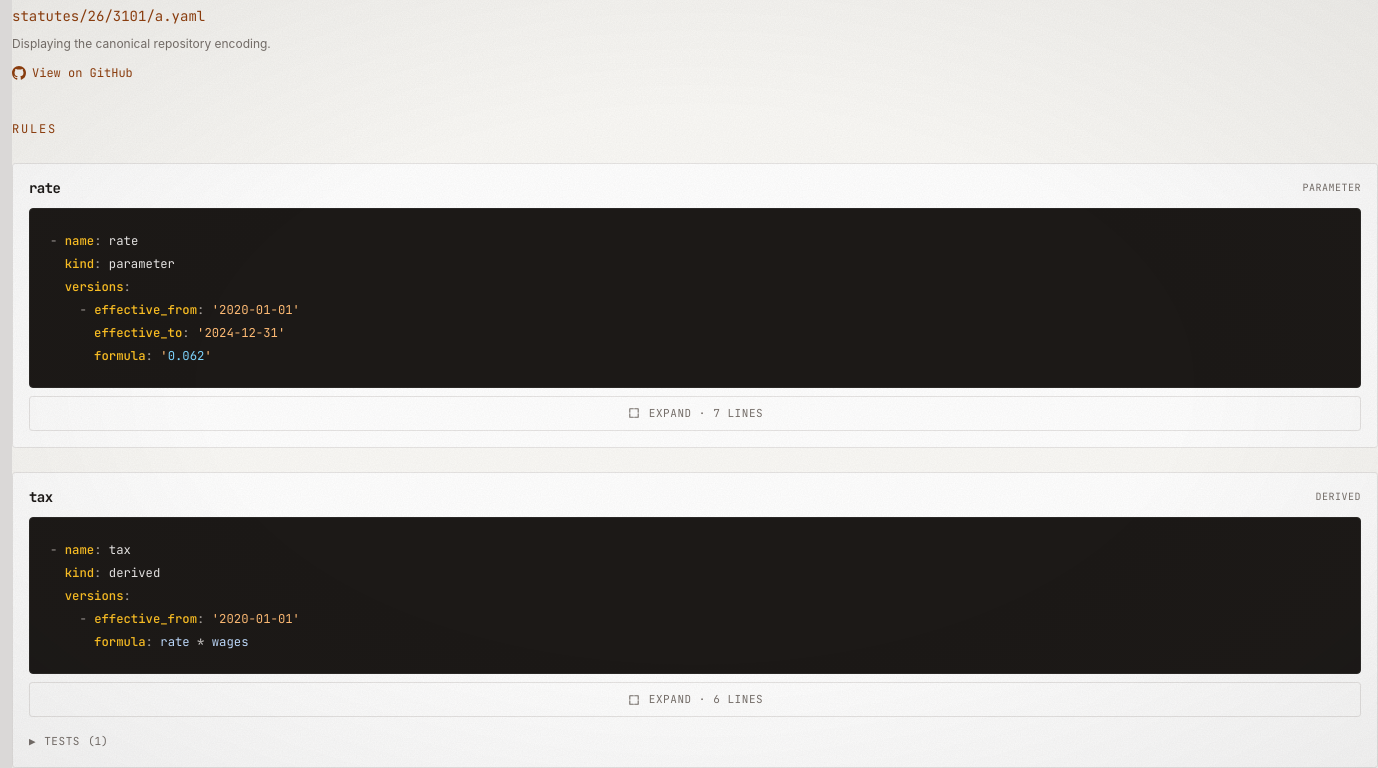
Scenario: RuleSpecTab — rendering edge cases › expands the per-rule tests block on click and shows input/output rows
(page scrolled)
Expected: the text "(1)" is shown, [88,734,108,751]
Click the button "▶ Tests (1)" at [68, 742], box [29,734,108,751]
(page scrolled)
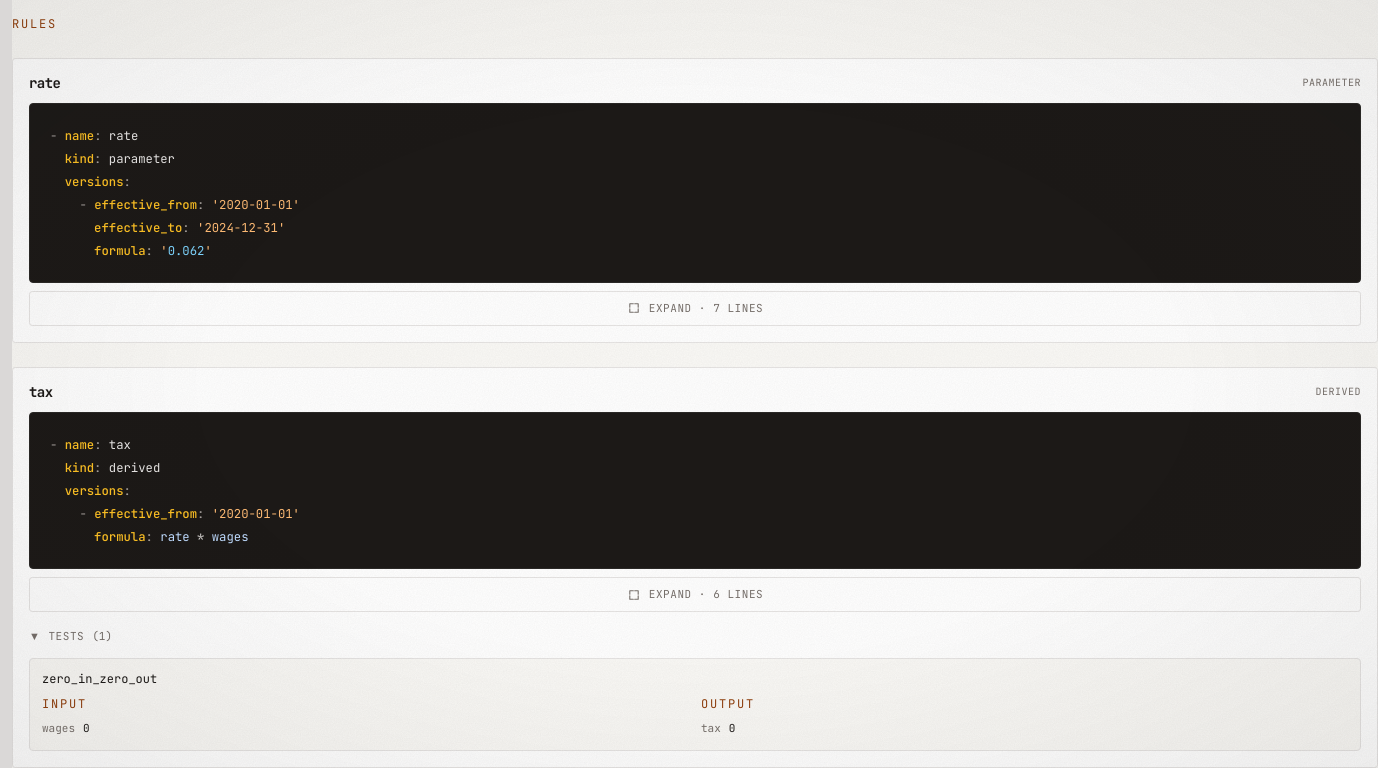
Expected: the 1st text "wages" is shown, [212,529,249,545]
Result: the text "zero_in_zero_out" is shown at [42,671,157,687]
Result: the text "0" below "input" is shown at [83,721,90,735]
